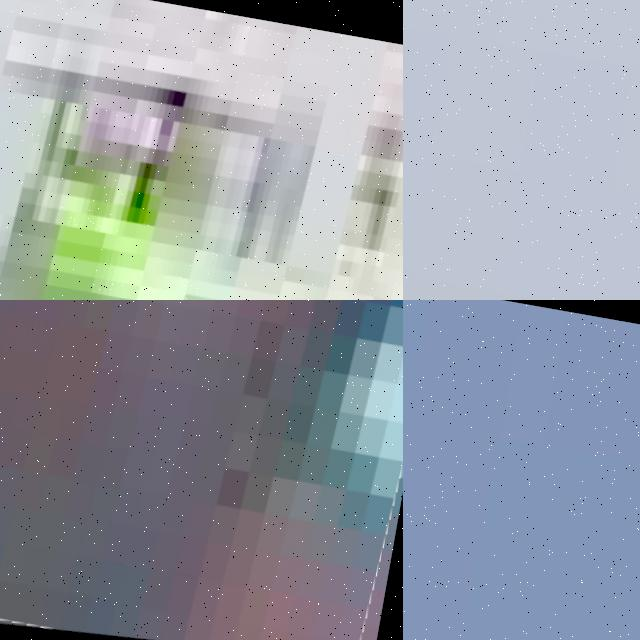0: (0, 0, 403, 300)
drone: (0, 300, 403, 640)
